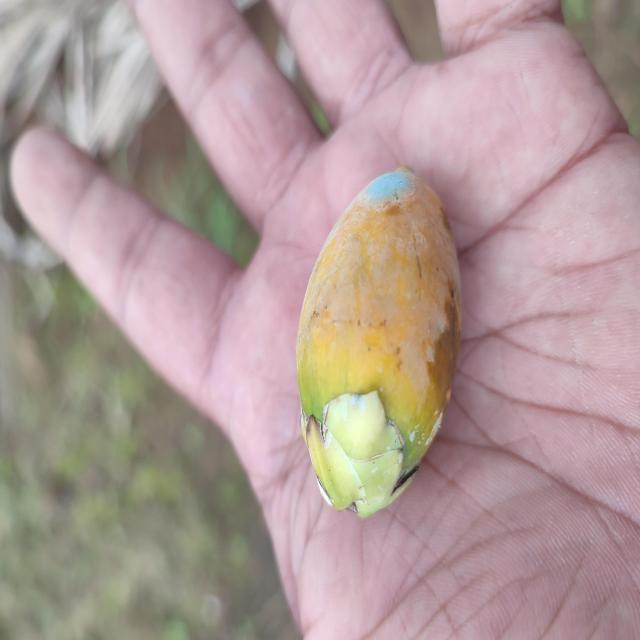good: (295, 169, 461, 521)
